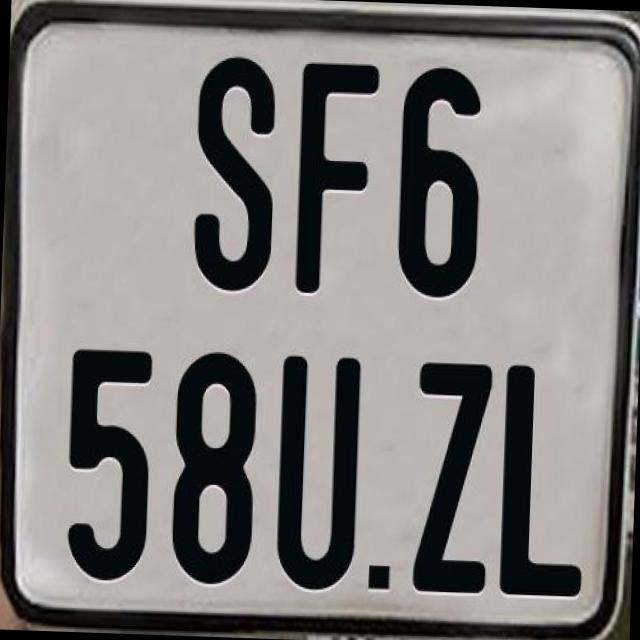5: (63, 344, 154, 582)
6: (394, 64, 489, 298)
8: (170, 348, 262, 588)
F: (294, 56, 385, 298)
L: (498, 363, 590, 595)
S: (192, 52, 278, 288)
U: (273, 356, 361, 594)
Z: (411, 357, 492, 594)
